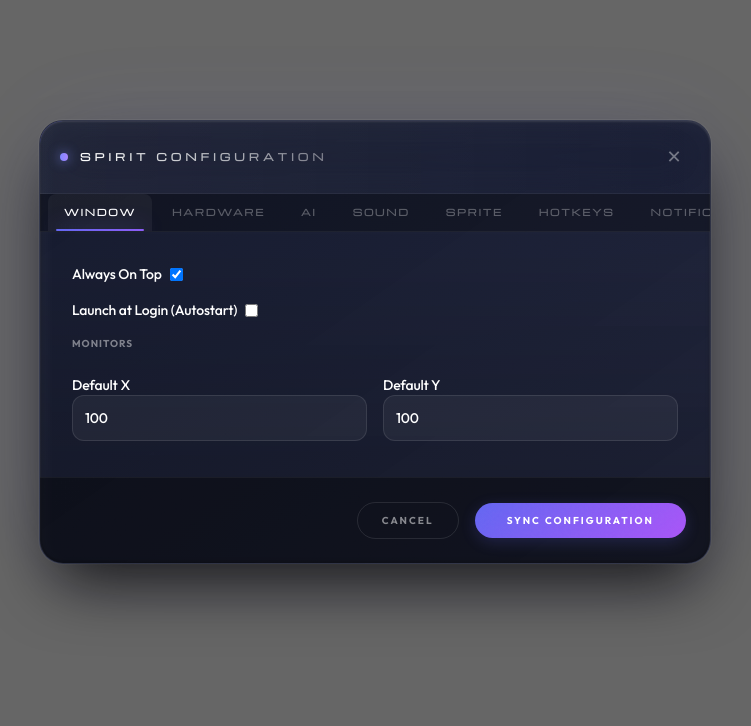
Scenario: Settings Flow Integration › switches tabs correctly
Expected: the text "Always On Top" is shown, [72,264,183,284]
# Hardware tab
Step 1. Click the button "hardware" → (218, 213), box [156,194,281,231]
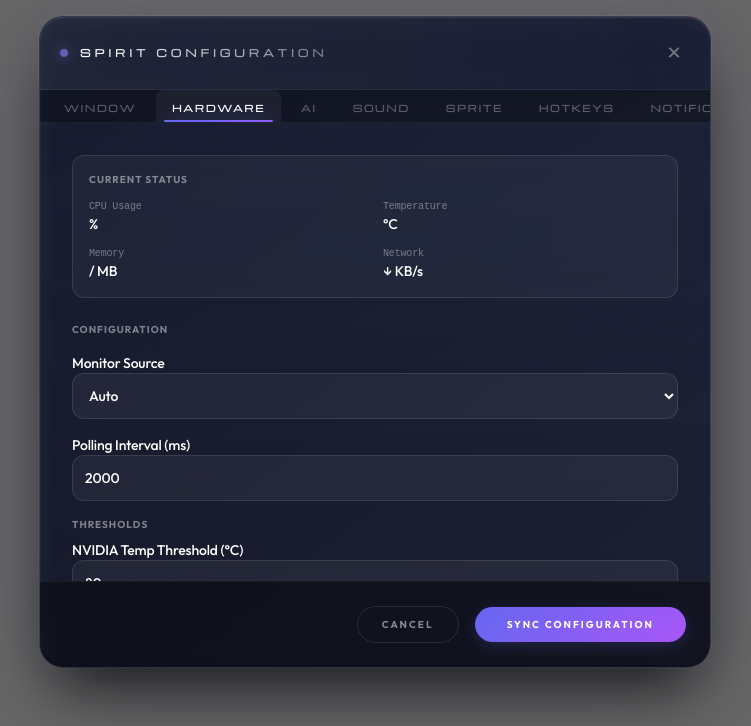
Now the text "Monitor Source" is shown, box [72,353,678,419]
Step 2. Click the button "ai" → (309, 106), box [285,90,333,122]
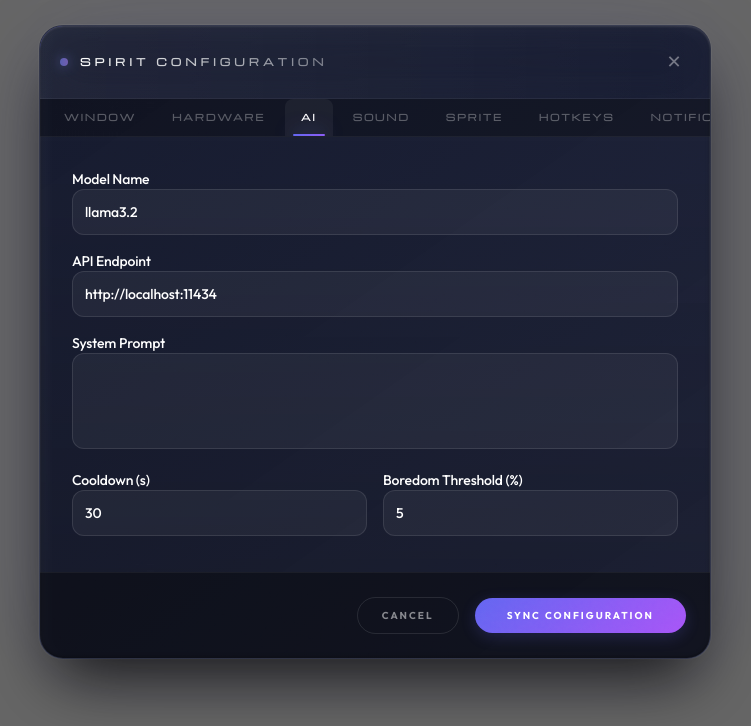
Now the text "Model Name" is shown, box [72,169,678,235]
